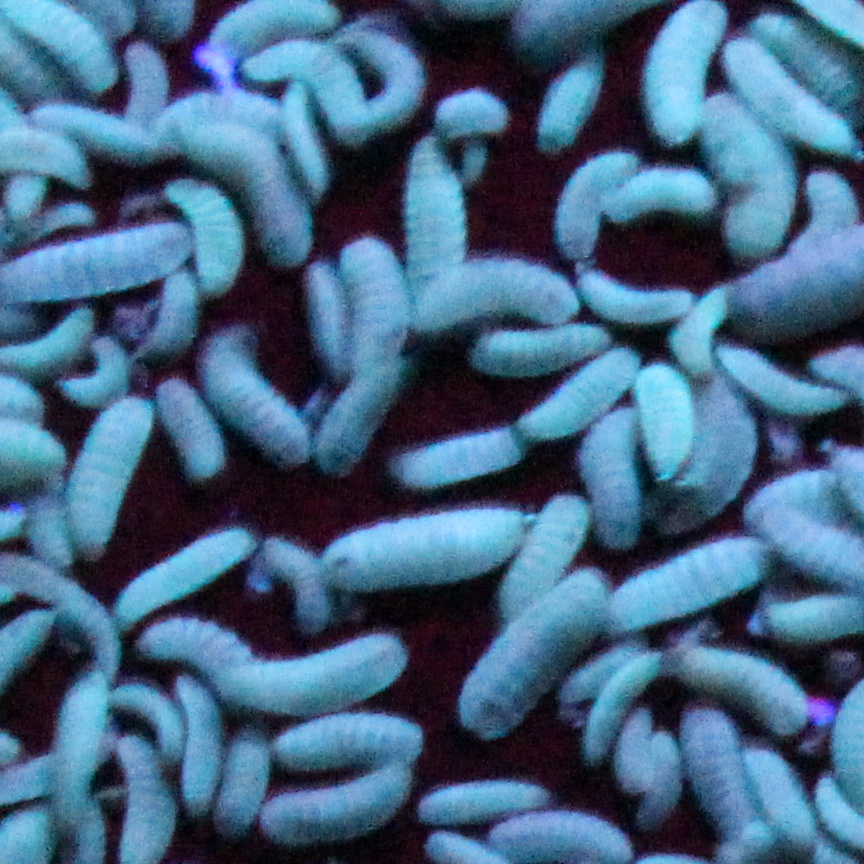larve: (451, 573, 597, 735), (183, 113, 320, 258), (324, 505, 525, 601), (694, 101, 797, 260), (62, 398, 161, 563), (196, 344, 324, 468), (658, 364, 749, 529), (607, 535, 762, 629), (220, 637, 401, 716), (673, 729, 778, 852), (494, 499, 594, 625), (267, 757, 417, 840), (518, 336, 637, 440), (245, 43, 369, 140), (407, 266, 575, 333), (672, 643, 797, 729), (117, 536, 247, 618), (338, 29, 432, 139), (6, 2, 124, 89), (403, 136, 466, 298), (580, 640, 659, 767), (145, 368, 237, 477), (200, 1, 342, 70), (648, 1, 713, 150), (339, 236, 416, 357), (318, 357, 393, 471), (394, 426, 534, 487), (714, 347, 839, 415), (617, 364, 696, 471), (168, 182, 241, 292), (23, 104, 163, 161), (482, 812, 639, 862), (739, 742, 806, 855), (559, 150, 623, 267), (585, 412, 639, 547), (296, 266, 356, 380), (539, 56, 604, 156), (275, 88, 334, 198), (163, 729, 232, 822), (132, 626, 258, 675), (273, 727, 422, 765), (578, 270, 689, 320), (268, 542, 327, 635), (226, 731, 280, 832), (472, 329, 604, 370), (606, 171, 714, 219), (739, 467, 844, 515), (120, 33, 169, 125), (55, 339, 131, 395), (422, 788, 556, 818), (647, 725, 669, 844)
